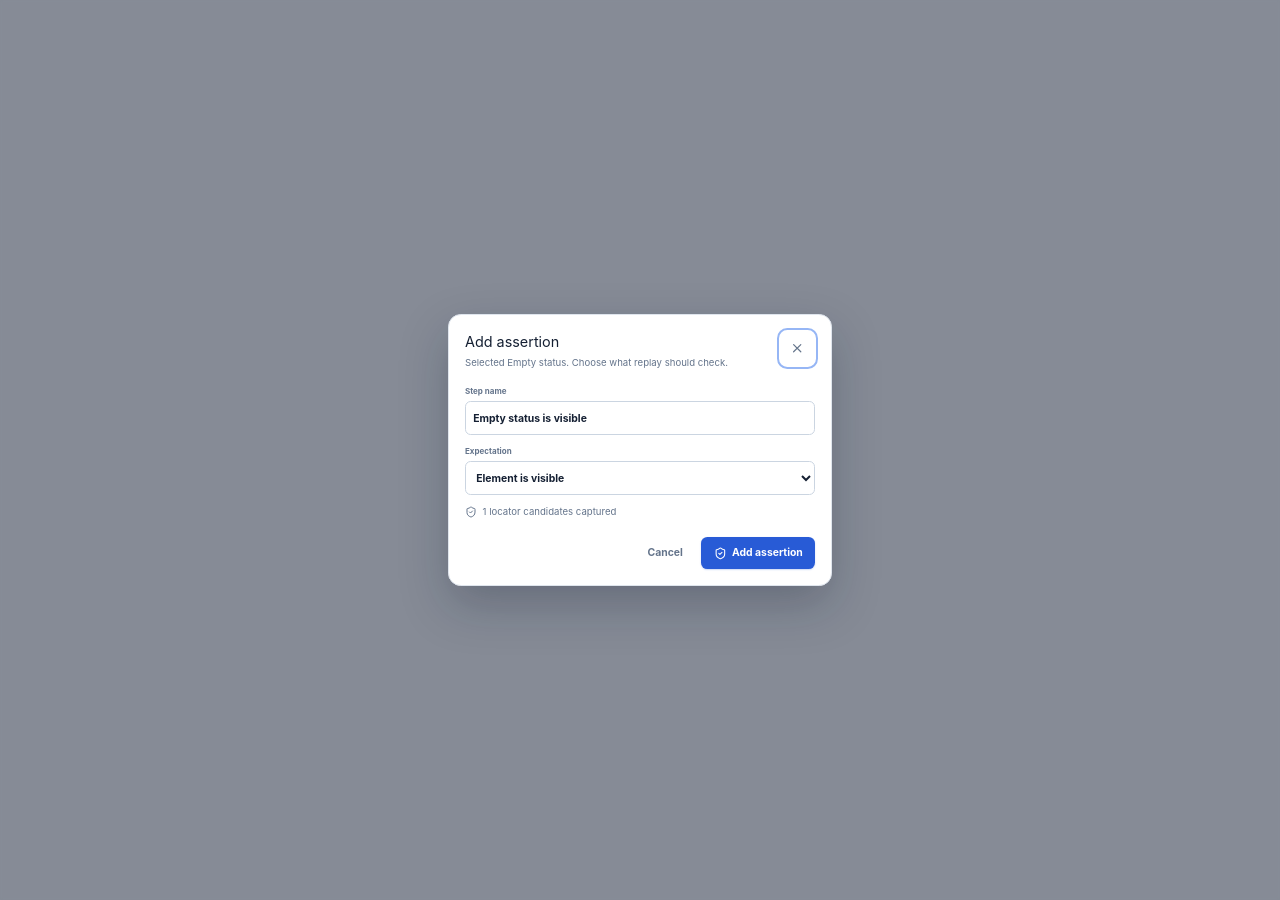
Test: Assertion step creation › infers visibility without captured text and validates text containment
This screenshot has width=1280, height=900.
expect the field labelled "Expected text" is not shown: met
Select "Text contains" in the dropdown labelled "Expectation" at [640, 478], box [465, 461, 815, 495]
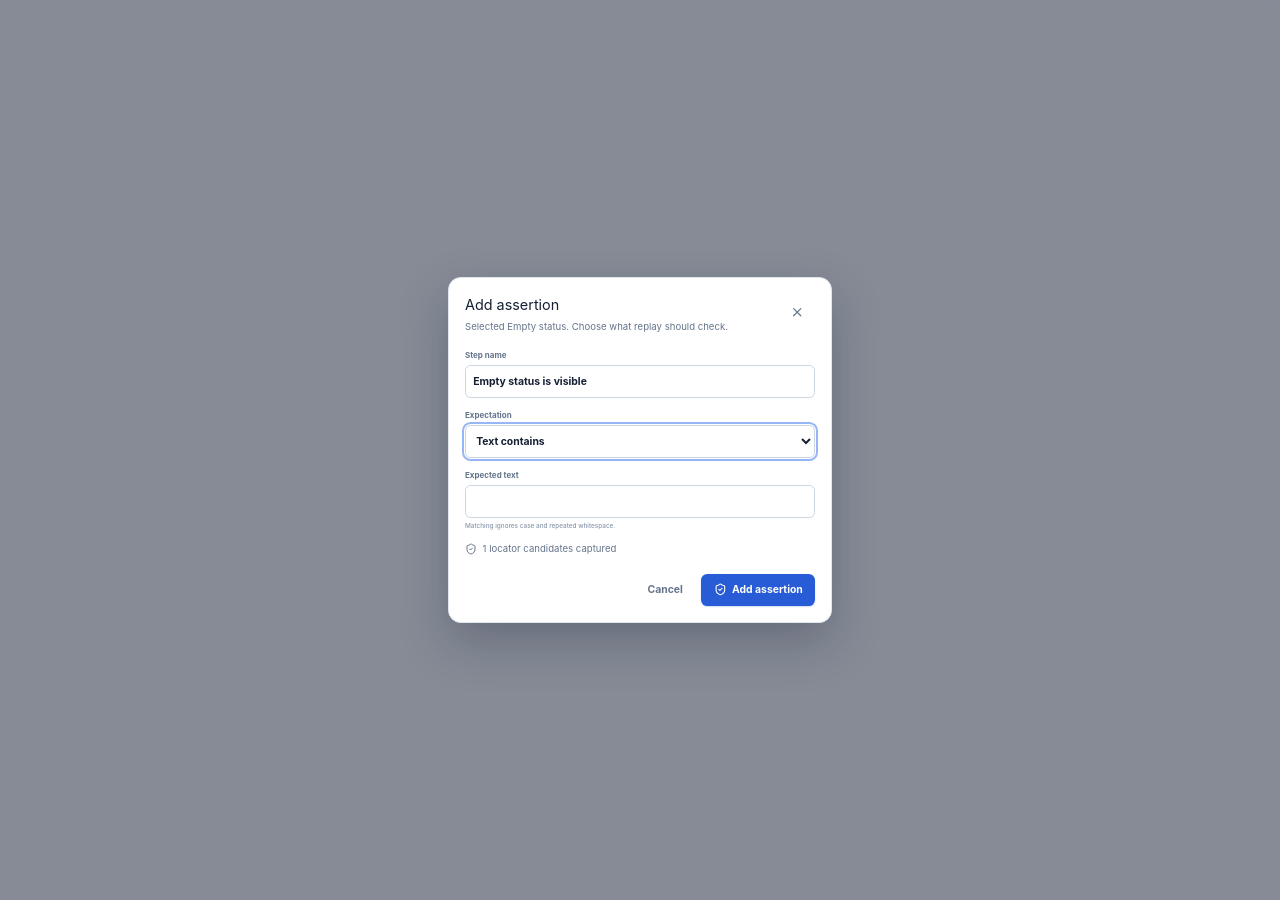
Click the button "Add assertion" at [758, 590], box [701, 574, 815, 606]
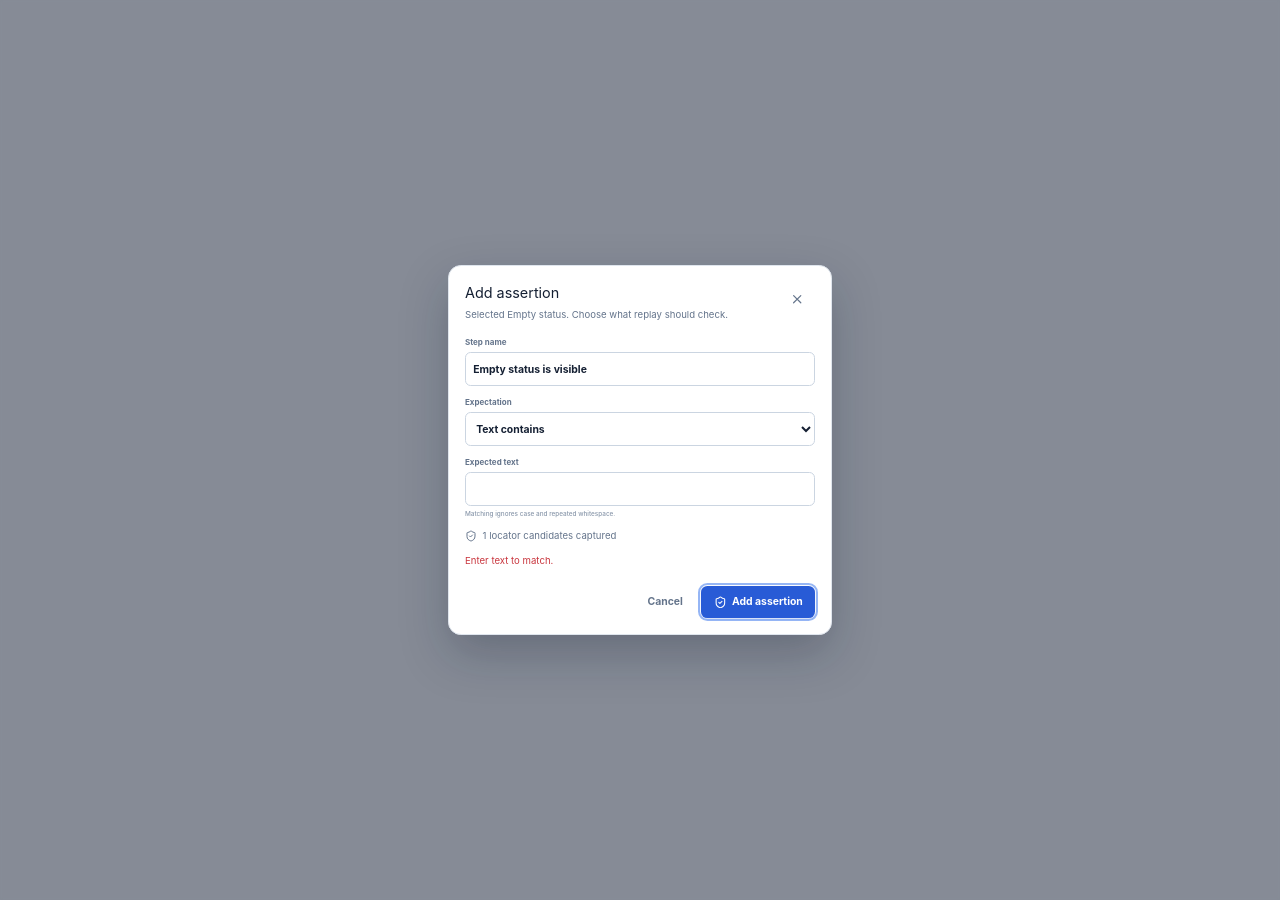
expect the message shows "Enter text to match": met, box [465, 555, 553, 566]
